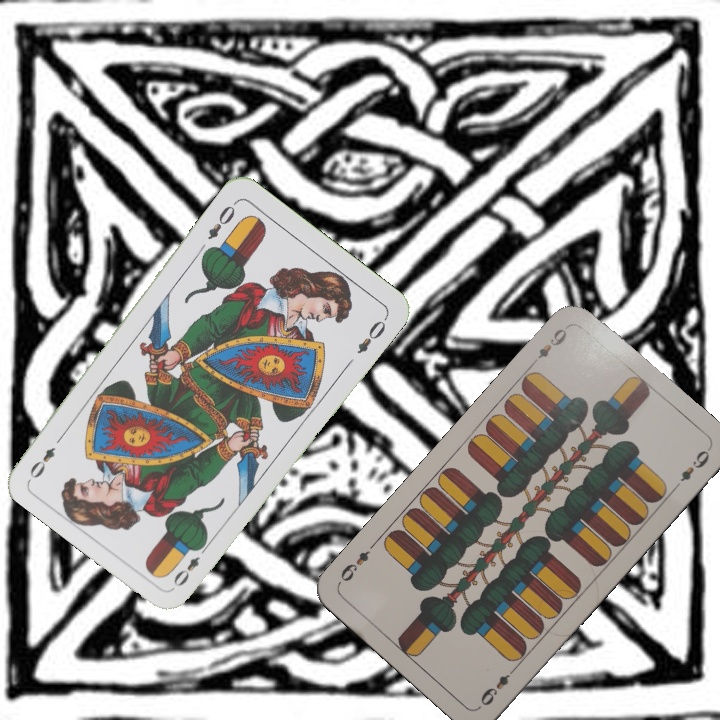E9: (476, 662, 520, 709), (527, 324, 570, 368)
EO: (169, 539, 211, 589), (203, 197, 240, 243)
